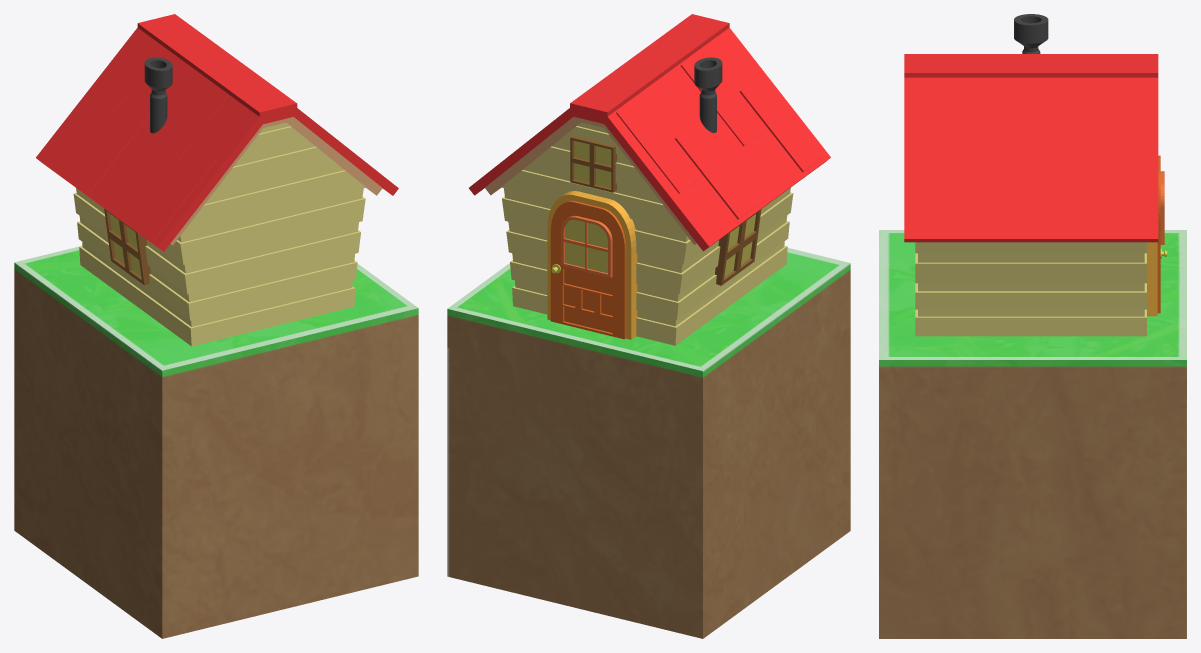
File: home_1.fbx
The picture shows the model from 3 angles, left to right: view 1: azimuth 30°, elevation 25°; view 2: azimuth 150°, elevation 25°; view 3: azimuth 270°, elevation 25°; orthographic projection. The views are drawn at different scales.
Parts seen in each view (by area): view 1: 立方体.013, 立方体, 平面.001, 立方体.012, 立方体.009, 立方体.011, 立方体.010, 立方体.008, 平面, 円.001; view 2: 立方体.013, 立方体, 平面.001, 立方体.003, 立方体.009, 立方体.012, 立方体.010, 立方体.001, 立方体.006, 立方体.002, 立方体.008, 立方体.011 (+4 smaller); view 3: 立方体.013, 平面.001, 立方体, 円.001, 立方体.001, 立方体.003.
Boxes of the visible parts, left/top/right/bottom form: 立方体.013: left=14, top=246, right=418, bottom=638; 立方体: left=73, top=122, right=365, bottom=346; 平面.001: left=36, top=14, right=398, bottom=251; 立方体.012: left=134, top=143, right=218, bottom=239; 立方体.009: left=69, top=95, right=149, bottom=191; 立方体.011: left=144, top=81, right=228, bottom=177; 立方体.010: left=79, top=33, right=163, bottom=129; 立方体.008: left=104, top=208, right=150, bottom=285; 平面: left=170, top=117, right=382, bottom=245; 円.001: left=144, top=57, right=172, bottom=133; 立方体.013: left=447, top=248, right=850, bottom=638; 立方体: left=501, top=122, right=793, bottom=345; 平面.001: left=469, top=14, right=830, bottom=251; 立方体.003: left=550, top=200, right=626, bottom=339; 立方体.009: left=675, top=123, right=759, bottom=219; 立方体.012: left=739, top=76, right=823, bottom=172; 立方体.010: left=616, top=97, right=699, bottom=193; 立方体.001: left=547, top=191, right=637, bottom=339; 立方体.006: left=570, top=136, right=616, bottom=192; 立方体.002: left=564, top=269, right=612, bottom=332; 立方体.008: left=715, top=209, right=761, bottom=285; 立方体.011: left=680, top=50, right=764, bottom=146; 立方体.013: left=879, top=230, right=1186, bottom=638; 平面.001: left=904, top=54, right=1158, bottom=242; 立方体: left=915, top=242, right=1146, bottom=336; 円.001: left=1014, top=14, right=1048, bottom=53; 立方体.001: left=1147, top=242, right=1157, bottom=316; 立方体.003: left=1157, top=155, right=1160, bottom=313.
Size of the model in its own units: 200 by 200 by 376.
Materials: 19 (1 with a texture image).
